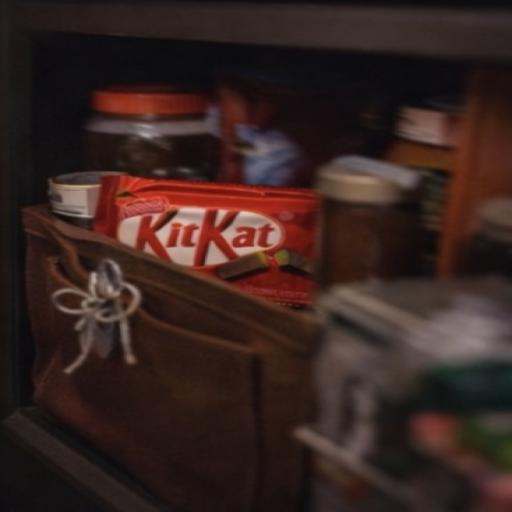kitkat: (60, 141, 456, 360)
